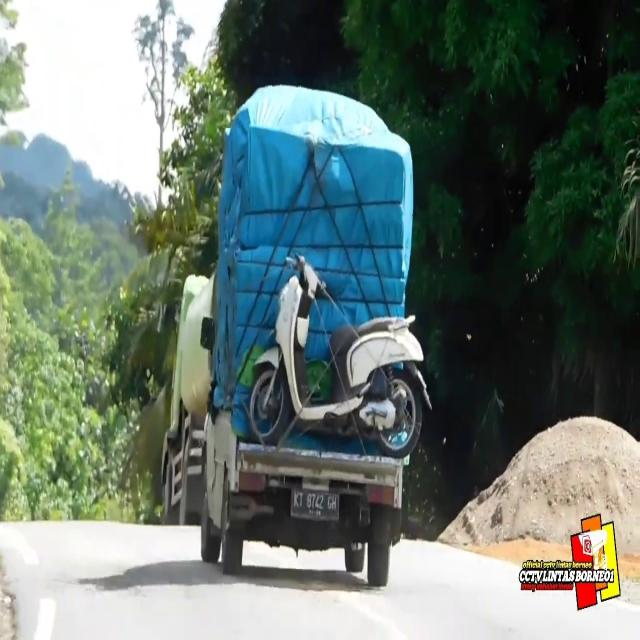Golongan IVB: (201, 264, 404, 590)
